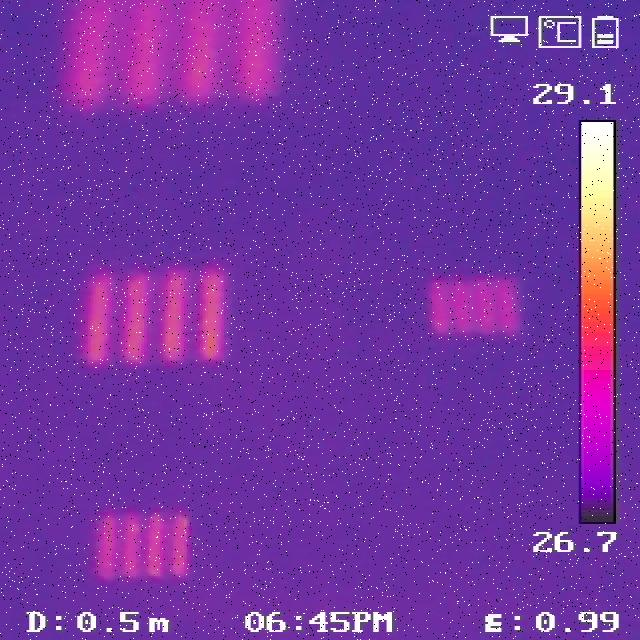Distinguishable 4-bar target: (64, 4, 275, 101), (79, 263, 229, 365), (422, 271, 530, 343), (96, 509, 193, 578)
